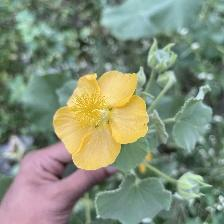indian mallow: (52, 71, 156, 174)
